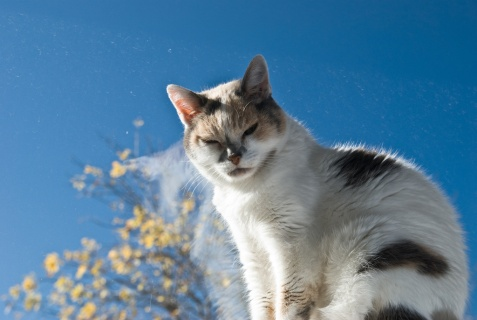Cat: (164, 55, 473, 319)
